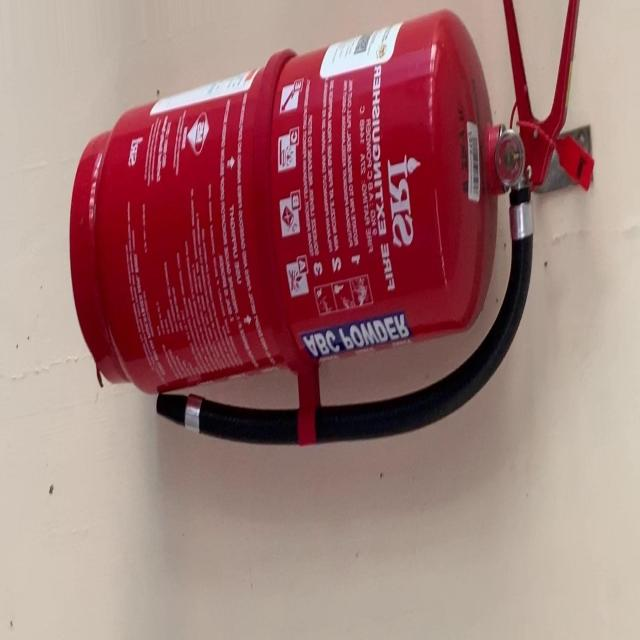fire_extinguisher: (63, 0, 597, 455)
